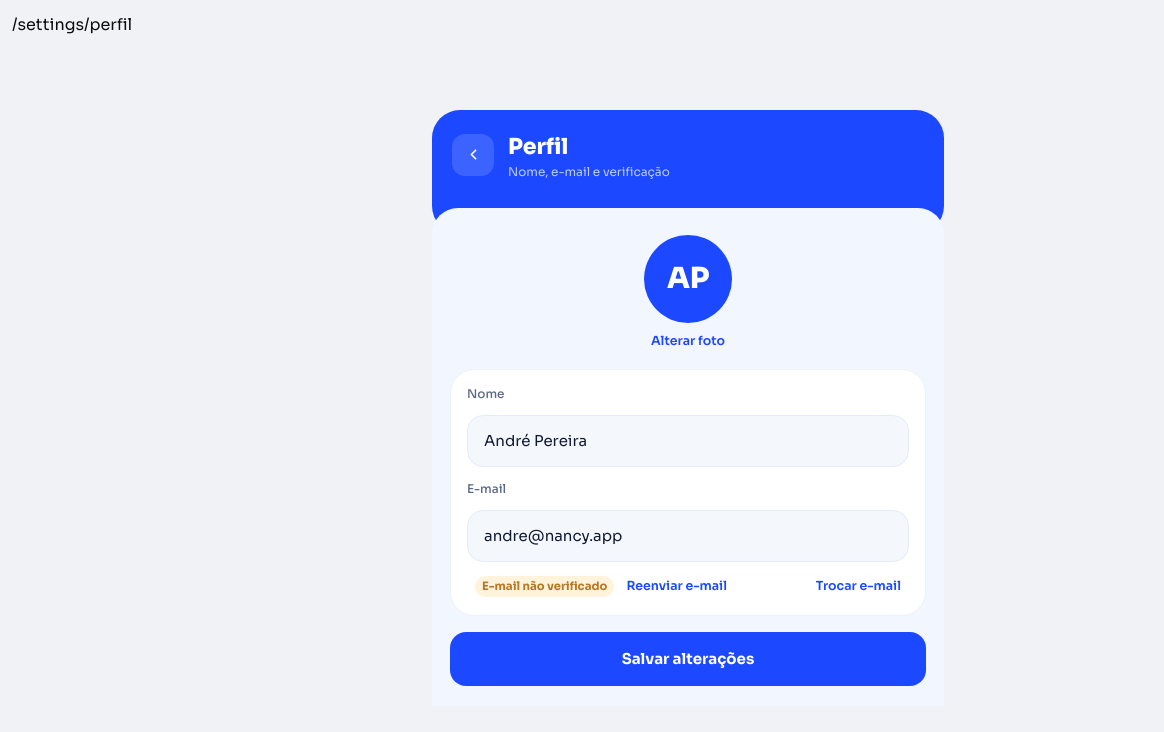
Scenario: Dados pessoais › e-mail não verificado: selo de aviso e "Reenviar e-mail" (continua dando pra reenviar)
The width and height of the screenshot is (1164, 732).
Expected: the text "E-mail não verificado" is shown, [475,576,614,597]
What coordinates should you click on to do the following:
click the button "Reenviar e-mail"
I would click on:
 (677, 586)
Its box is [626,578,727,594].
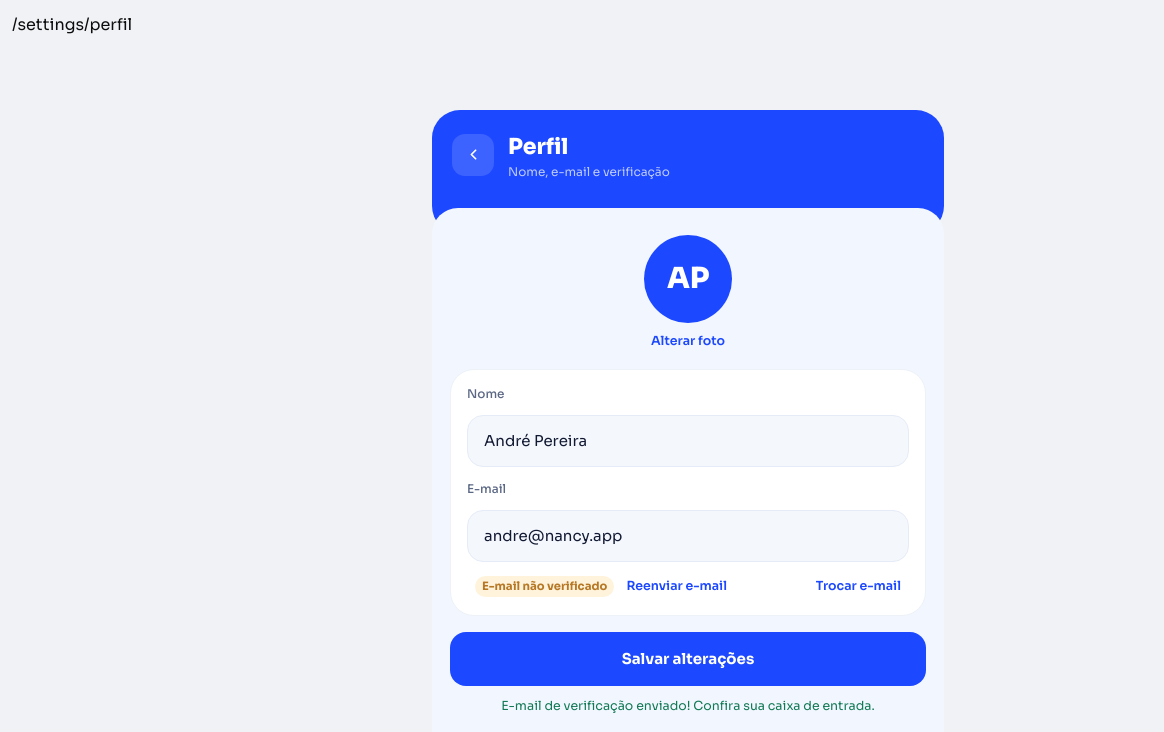
Result: the text "E-mail de verificação enviado! Confira sua caixa de entrada." is shown at [501,698,875,714]
